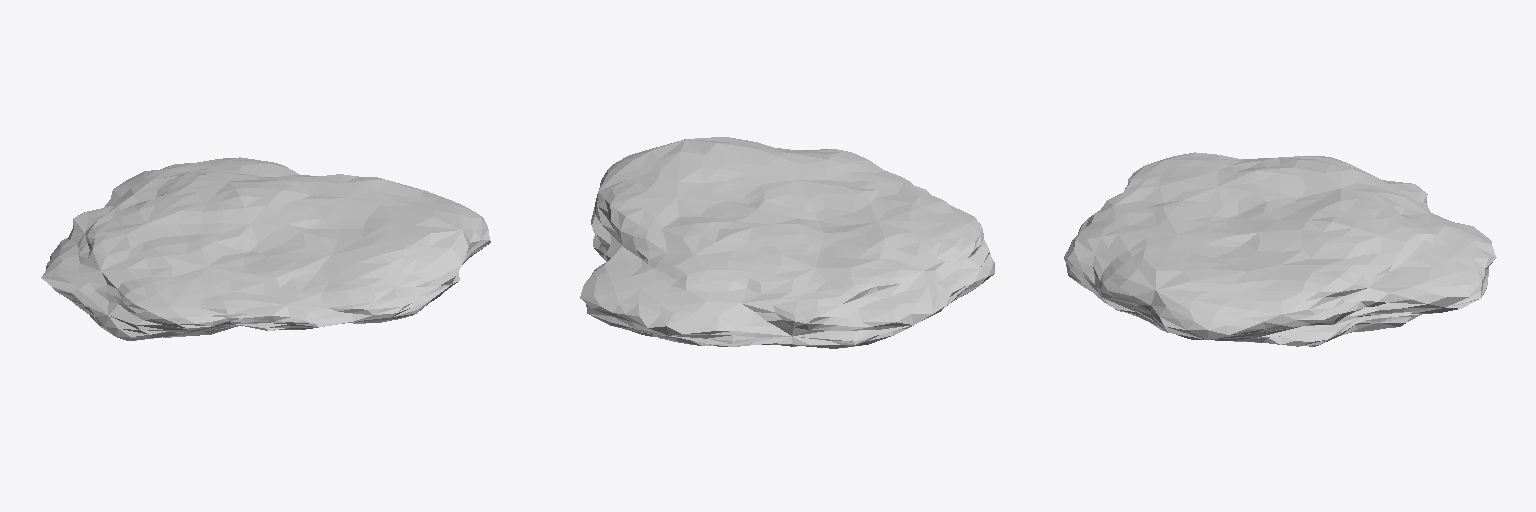
Rendered from hydra_slab.obj.
3 views of the same model, side by side, from view 1: azimuth 30°, elevation 25°; view 2: azimuth 150°, elevation 25°; view 3: azimuth 270°, elevation 25° (orthographic).
Parts seen in each view (by area): view 1: Icosphere; view 2: Icosphere; view 3: Icosphere.
Part boxes in pixels (x1,y1,x2,y2): Icosphere: (41, 157, 490, 340); Icosphere: (580, 137, 994, 348); Icosphere: (1064, 152, 1496, 346).
Size of the model in its own units: 5.16 by 1.04 by 5.07.